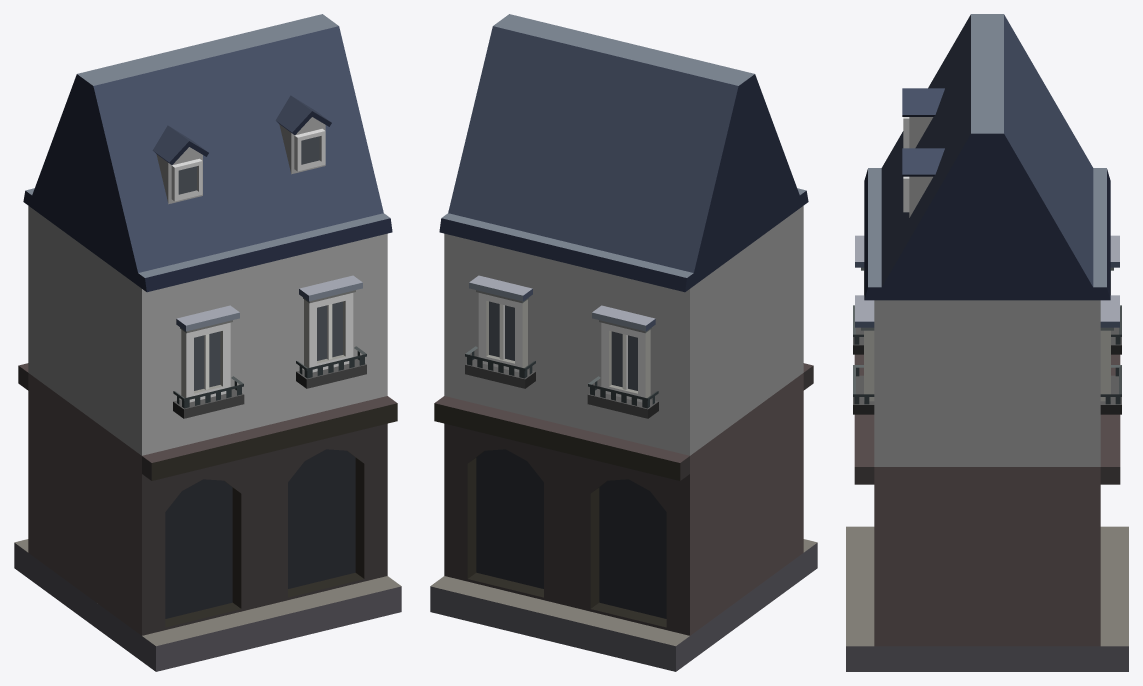
Rendered from TB_CITY_BD_N_Line_2_B.FBX.
The picture shows the model from 3 angles, left to right: view 1: azimuth 30°, elevation 25°; view 2: azimuth 150°, elevation 25°; view 3: azimuth 270°, elevation 25°; orthographic projection.
Visible parts, largest first — view 1: TB_CITY_BD_N_Line_2_B; view 2: TB_CITY_BD_N_Line_2_B; view 3: TB_CITY_BD_N_Line_2_B.
Part boxes in pixels (x1,y1,x2,y2): TB_CITY_BD_N_Line_2_B: [14, 14, 401, 671]; TB_CITY_BD_N_Line_2_B: [430, 14, 817, 671]; TB_CITY_BD_N_Line_2_B: [846, 14, 1128, 671].
Bounding box in the file's own units: 7.99 × 16.78 × 7.99.
